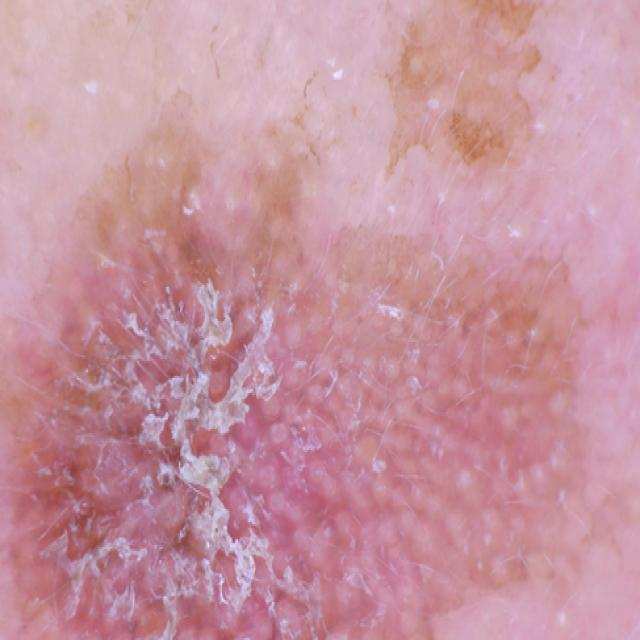Melanoma: (13, 136, 479, 640)
